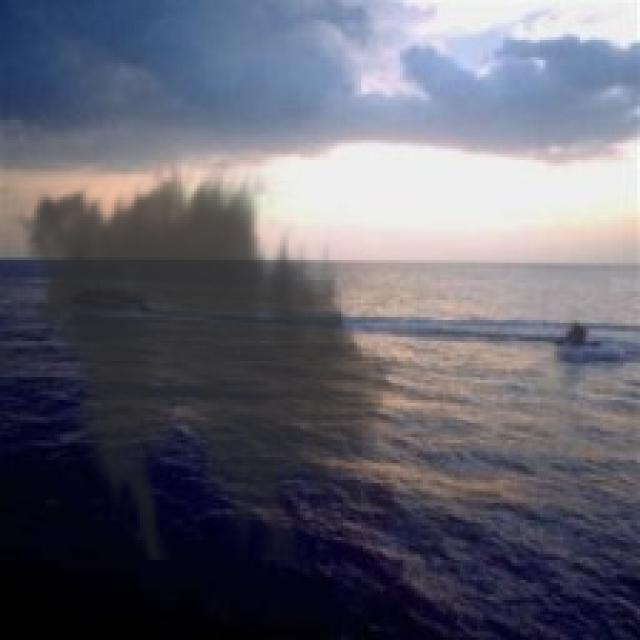smoke: (6, 154, 403, 560)
